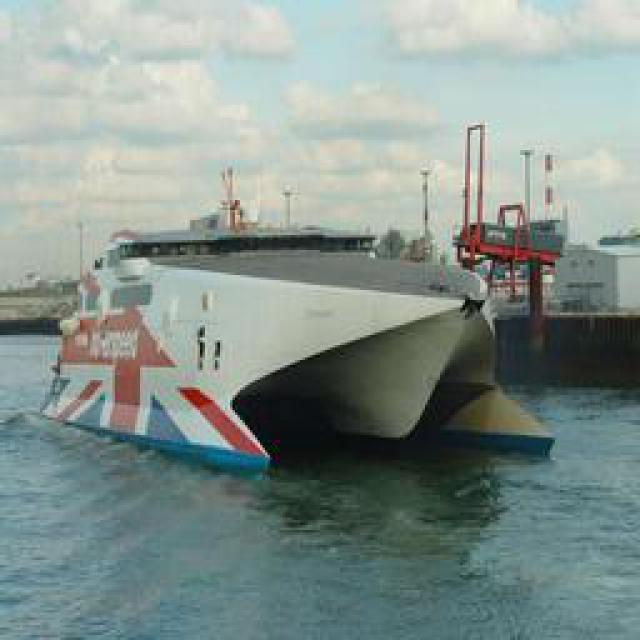Ship: (32, 234, 552, 479)
